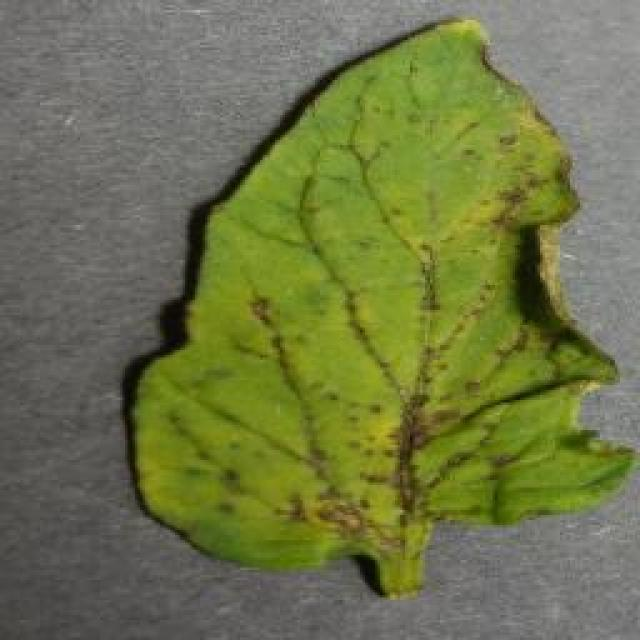Tomato bacterial spot leaf: (114, 6, 640, 611)
